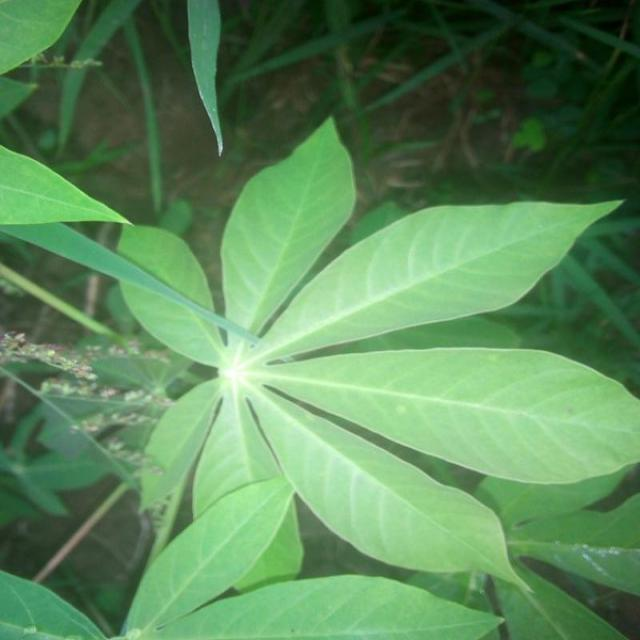cassava leaf: (1, 113, 638, 637)
